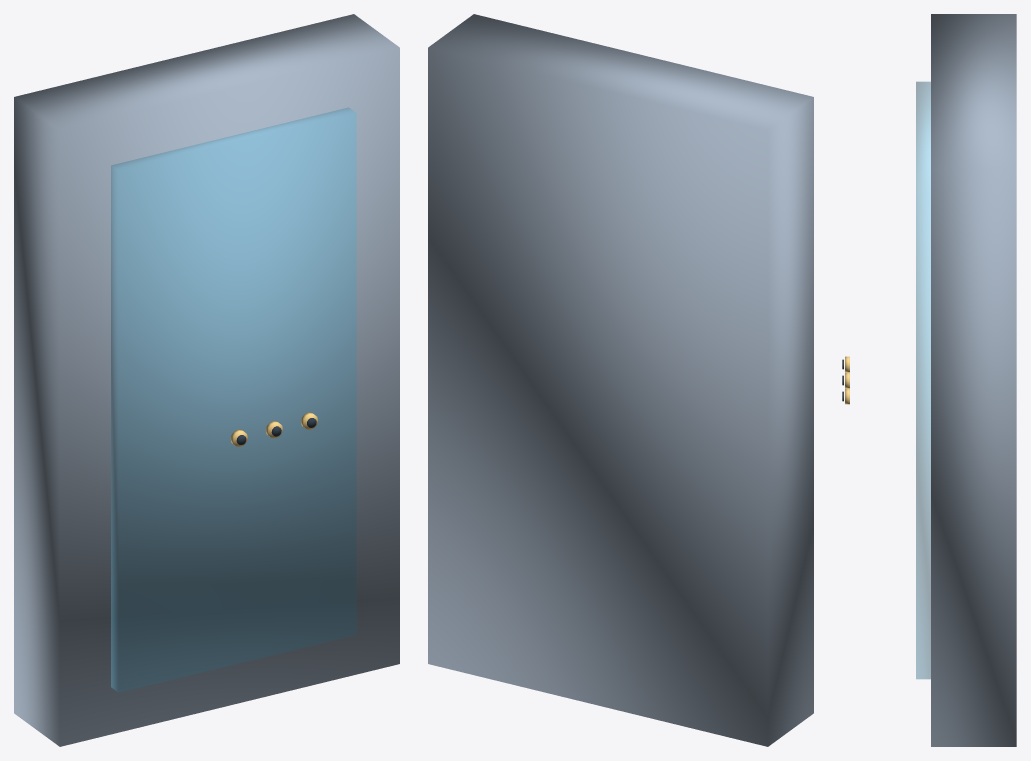
The model's file is 11_L90_ProtectedVentAndInterlockGate.glb.
The picture shows the model from 3 angles, left to right: view 1: azimuth 30°, elevation 25°; view 2: azimuth 150°, elevation 25°; view 3: azimuth 270°, elevation 25°; orthographic projection. The views are drawn at different scales.
Parts seen in each view (by area): view 1: L90_ProtectedVentAndInterlock_Part_0000, L90_ProtectedVentAndInterlock_Part_0001; view 2: L90_ProtectedVentAndInterlock_Part_0000; view 3: L90_ProtectedVentAndInterlock_Part_0000, L90_ProtectedVentAndInterlock_Part_0001.
Boxes of the visible parts, left/top/right/bottom form: L90_ProtectedVentAndInterlock_Part_0000: left=14, top=14, right=399, bottom=746; L90_ProtectedVentAndInterlock_Part_0001: left=111, top=107, right=356, bottom=692; L90_ProtectedVentAndInterlock_Part_0000: left=428, top=14, right=813, bottom=746; L90_ProtectedVentAndInterlock_Part_0000: left=931, top=14, right=1016, bottom=746; L90_ProtectedVentAndInterlock_Part_0001: left=916, top=81, right=930, bottom=679.
Bounding box in the file's own units: 3 × 5.2 × 1.42.
